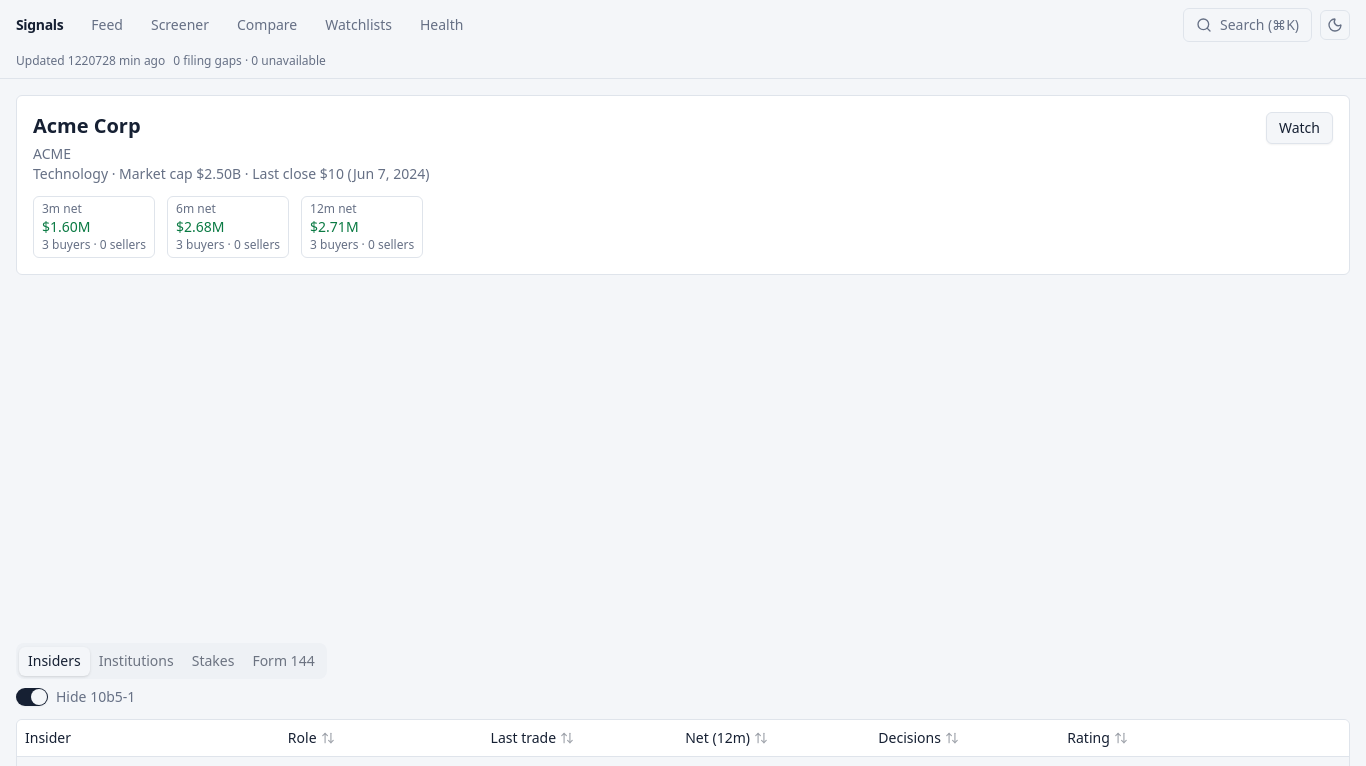
Scenario: change chips render
Expected: the heading "Acme Corp" is shown, [33, 112, 141, 139]
Click the tab "Institutions".
click(136, 661)  # box [90, 646, 183, 676]
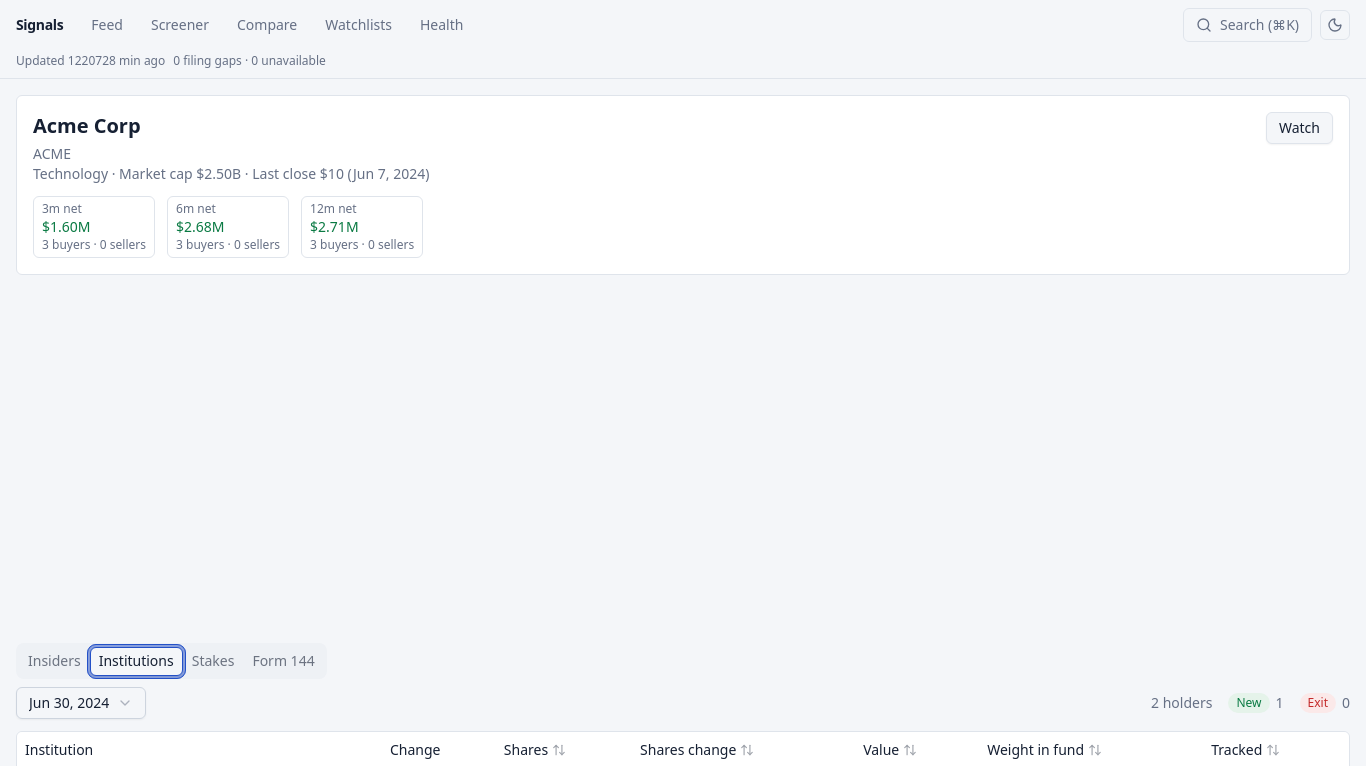
Expected: the text "New" is shown, [1228, 693, 1270, 713]
Expected: the text "Exit" is shown, [1300, 693, 1336, 713]
